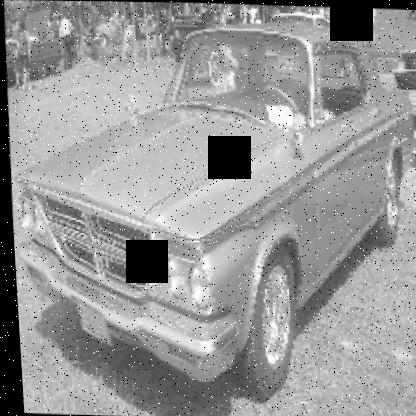not_emergency: (4, 11, 415, 390)
